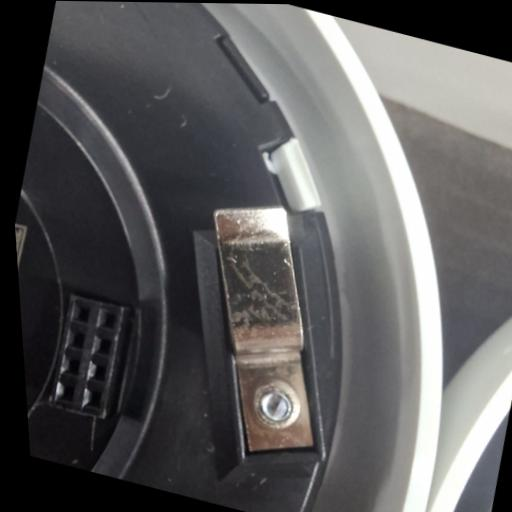yaysiz: (154, 190, 373, 470)
